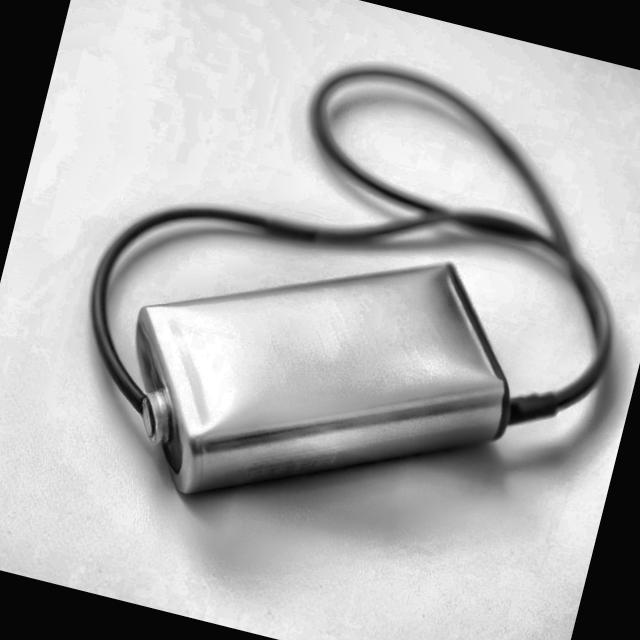Battery: (90, 198, 544, 572)
Cable: (79, 0, 640, 443)
